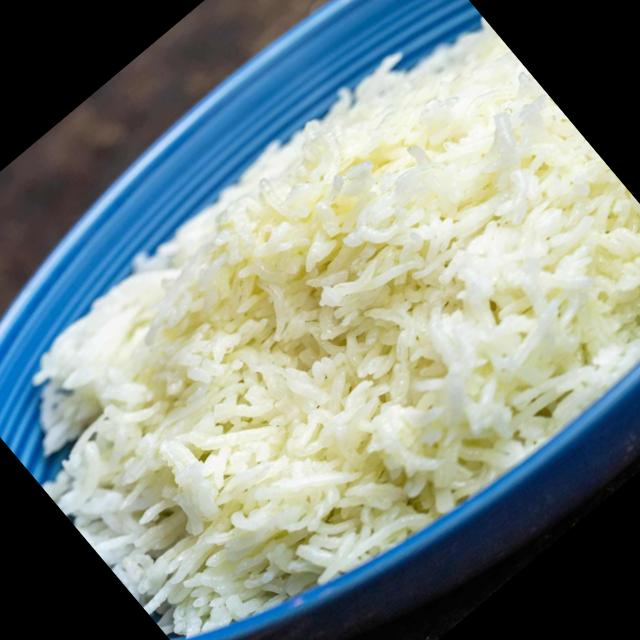rice: (30, 19, 640, 639)
